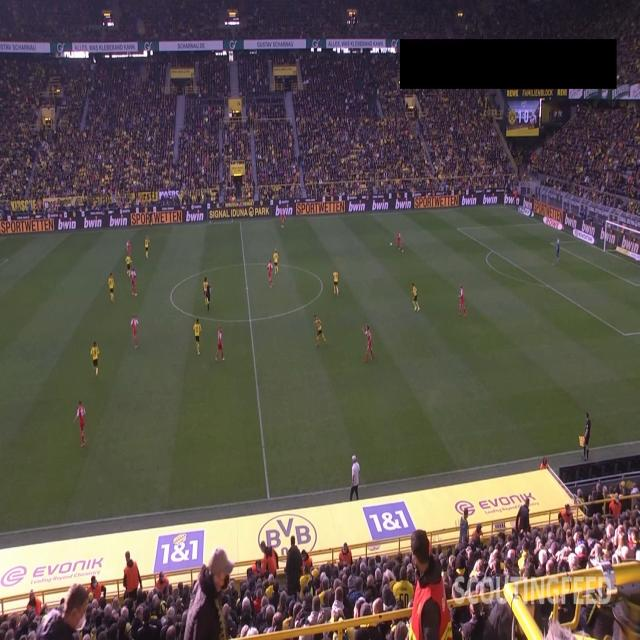ball: (390, 241, 392, 247)
